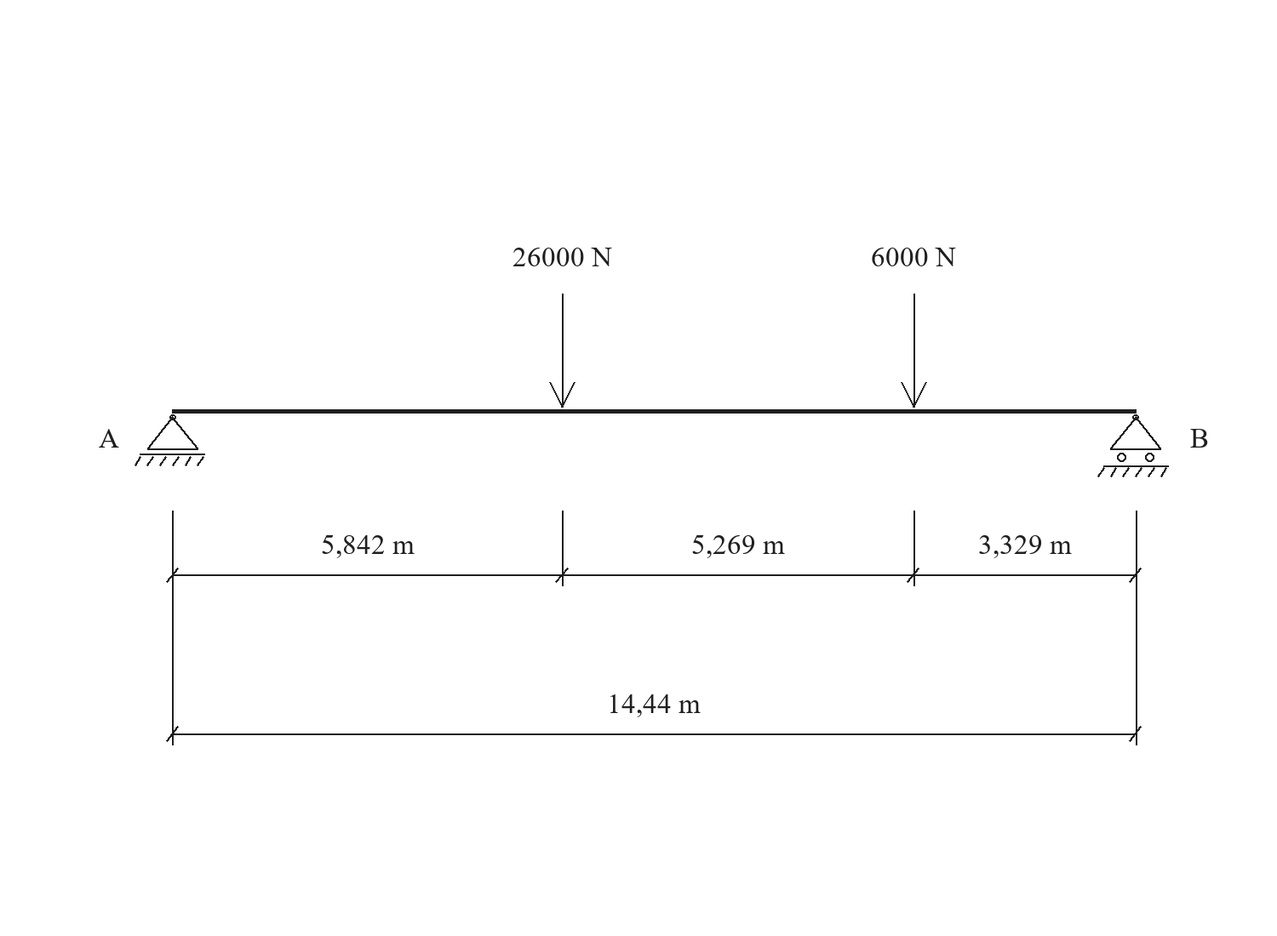pin_support: (135, 414, 205, 466)
point_load: (549, 294, 576, 408), (901, 294, 927, 408)
roller_support: (1097, 414, 1169, 477)
